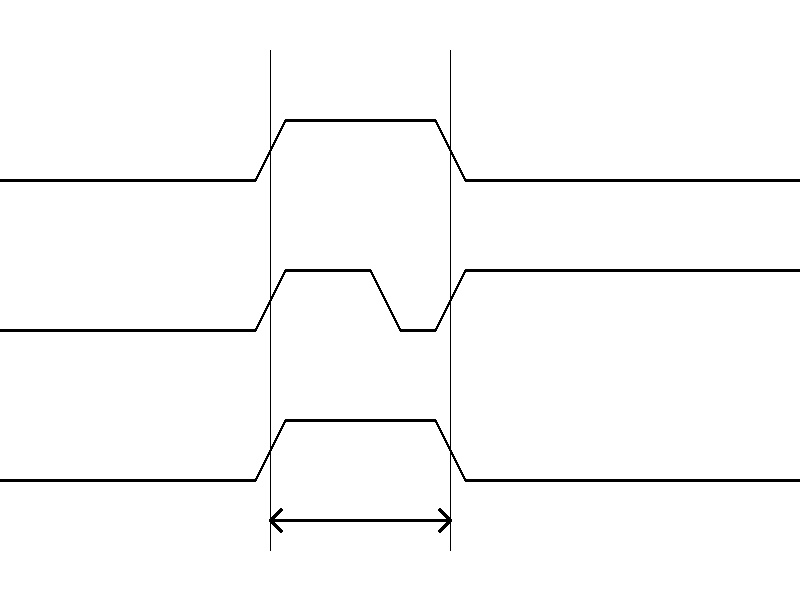double_arrow: (270, 505, 450, 535)
